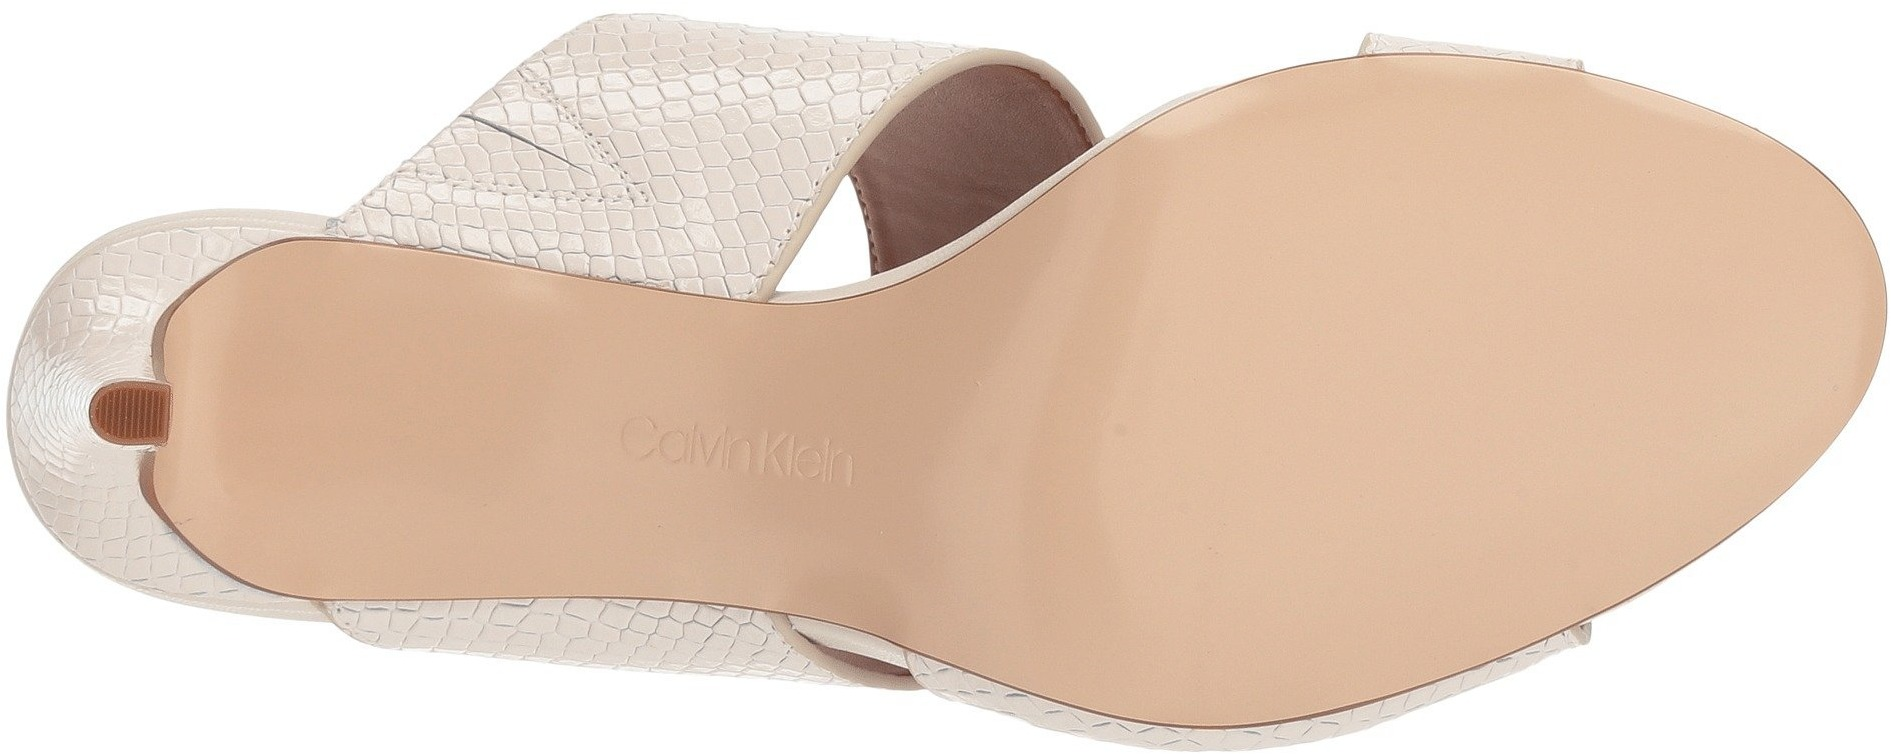exclude: (447, 175, 952, 714), (314, 6, 1193, 310), (1, 187, 503, 695)
other: (960, 265, 1195, 522), (1204, 353, 1466, 579), (1444, 87, 1676, 335), (1208, 113, 1444, 347), (1474, 340, 1696, 560), (1007, 528, 1194, 702), (1698, 197, 1877, 367), (1207, 590, 1328, 703), (109, 391, 159, 439)
